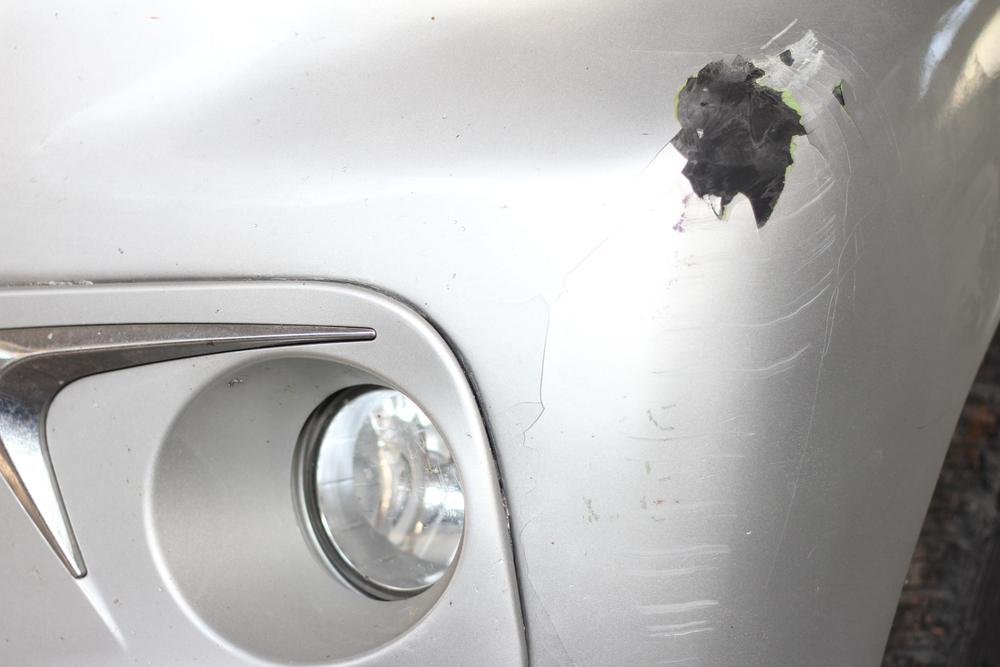scratch: (613, 17, 871, 662)
